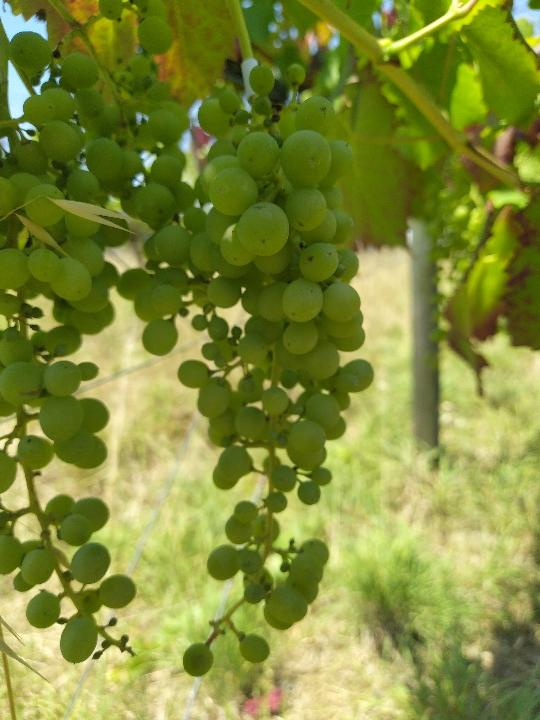grape: (119, 62, 377, 685)
